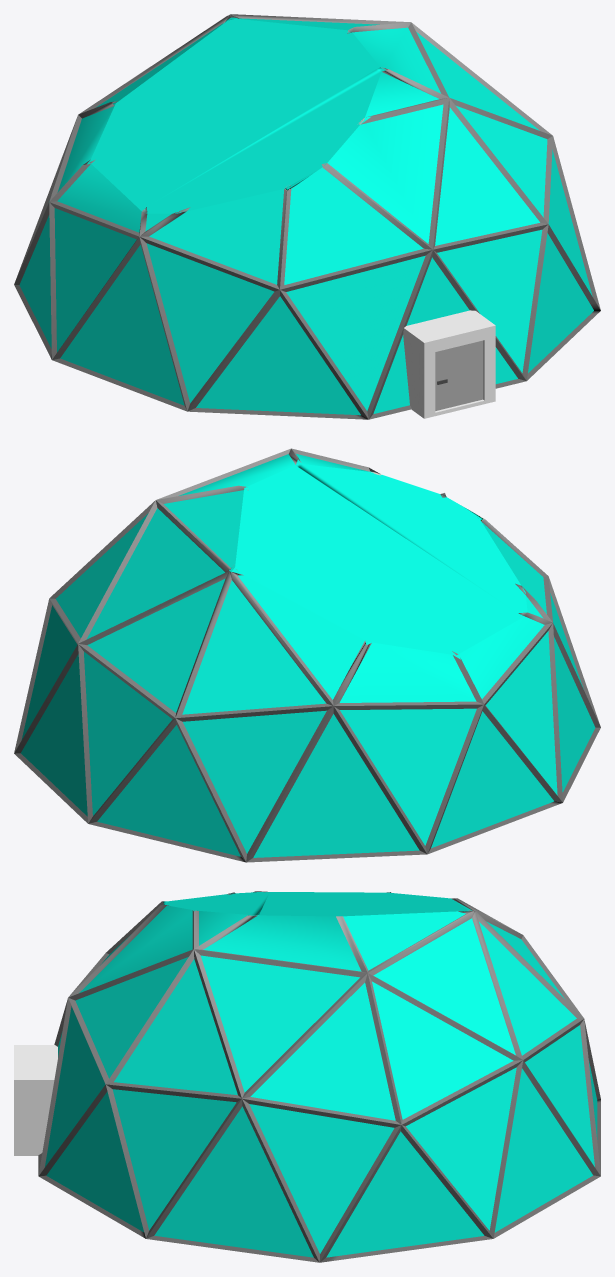
File: SM_Bld_Domo_02.fbx
3 views of the same model, one above another, from view 1: azimuth 30°, elevation 25°; view 2: azimuth 150°, elevation 25°; view 3: azimuth 270°, elevation 25° (orthographic).
Parts seen in each view (by area): view 1: SM_Bld_Domo_02; view 2: SM_Bld_Domo_02; view 3: SM_Bld_Domo_02.
Part boxes in pixels (box(x1,y1,x2,y2)): SM_Bld_Domo_02: box(14, 14, 600, 419); SM_Bld_Domo_02: box(14, 448, 600, 862); SM_Bld_Domo_02: box(14, 891, 600, 1262).
Size of the model in its own units: 1409 by 659 by 1398.
